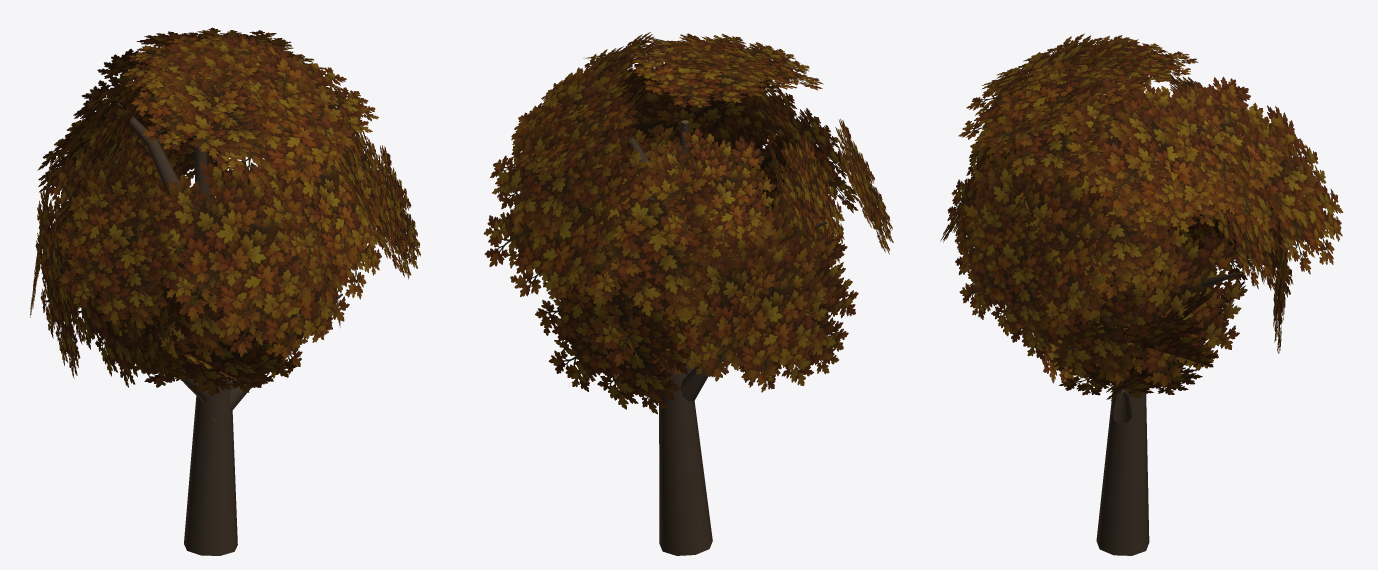
3 views of the same model, side by side, from view 1: azimuth 30°, elevation 25°; view 2: azimuth 150°, elevation 25°; view 3: azimuth 270°, elevation 25° (orthographic). The views are drawn at different scales.
Visible parts, largest first — view 1: Bark; view 2: Bark; view 3: Bark.
Boxes of the visible parts, x1,y1,x2,y2 form: Bark: [30, 27, 420, 555]; Bark: [483, 32, 893, 555]; Bark: [940, 33, 1343, 555].
Size of the model in its own units: 1.95 by 2.45 by 1.99.
Materials: 3 (1 with a texture image).
